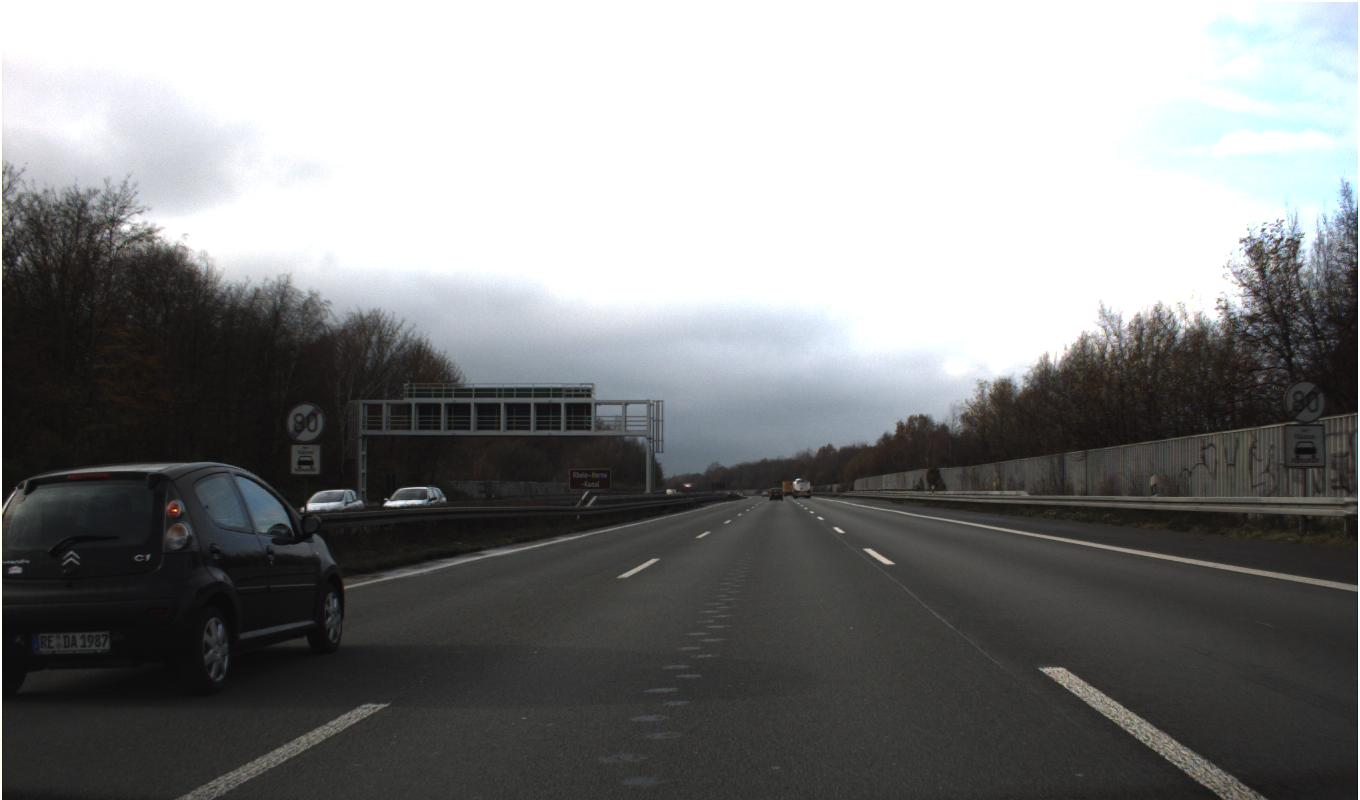prohibitory: (1282, 379, 1326, 424), (285, 401, 326, 444)
